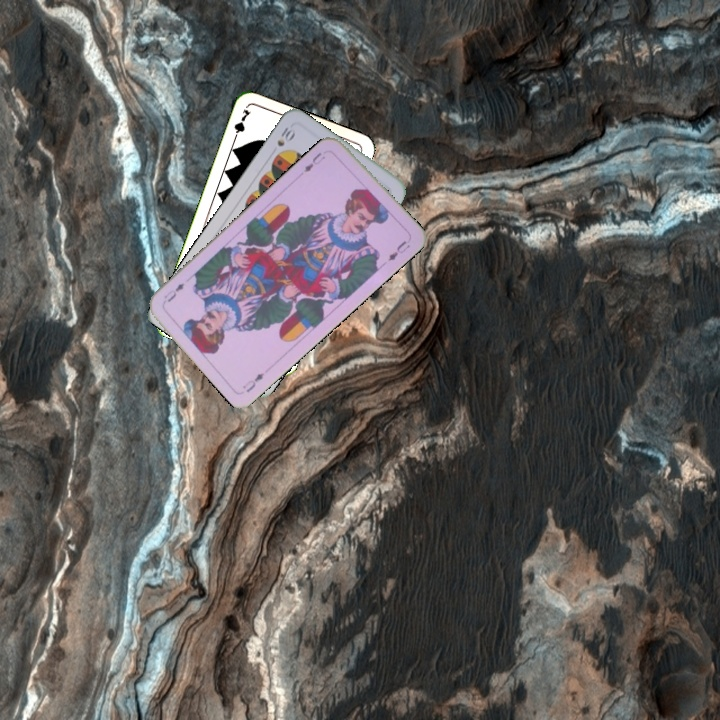EU: (238, 369, 267, 395), (300, 148, 327, 175)
G7: (229, 105, 253, 144)
S10: (273, 121, 298, 149)
